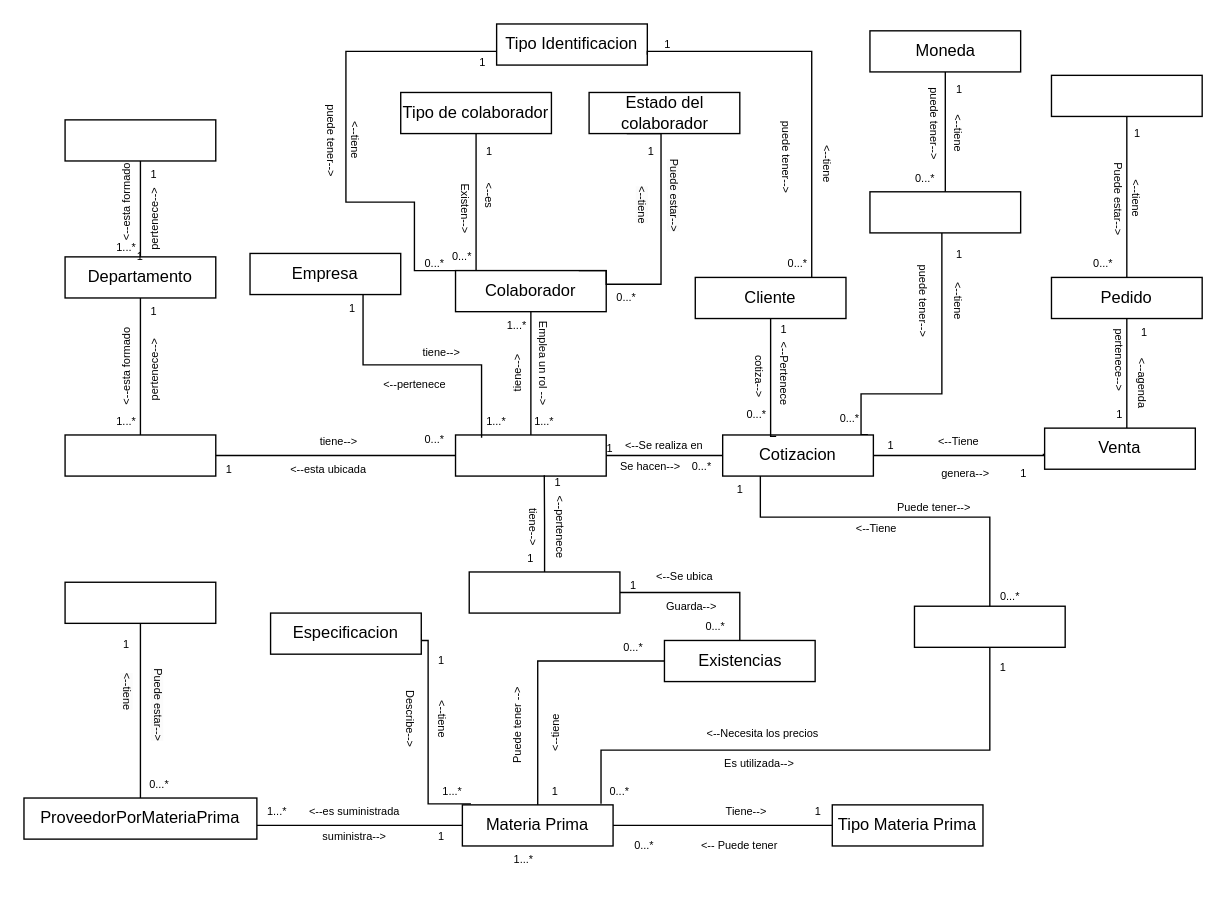
Some shapes in this 1226 by 897 pixel diagram are drawn without their labels. Each missing label, with the centre of its shape:
"Ciudad" belongs at [140,455].
"Estado pedido" belongs at [1126,95].
"Inventario" belongs at [544,592].
"Materia Prima por Cotizacion" belongs at [989,626].
"Pais" belongs at [140,140].
"Proveedor" belongs at [140,602].
"Sede" belongs at [530,455].
"Tipo Cotizacion" belongs at [945,211].
